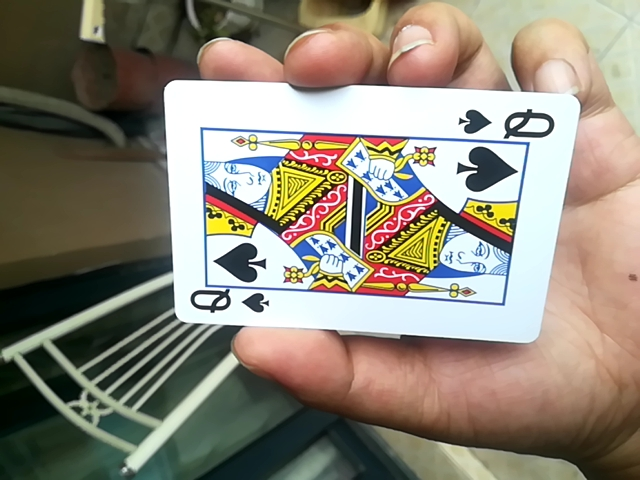ht q: (160, 79, 583, 350)
